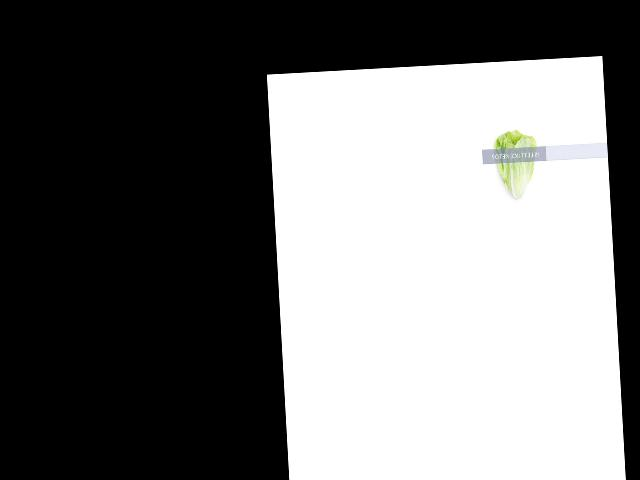lettuce: (489, 129, 541, 206)
